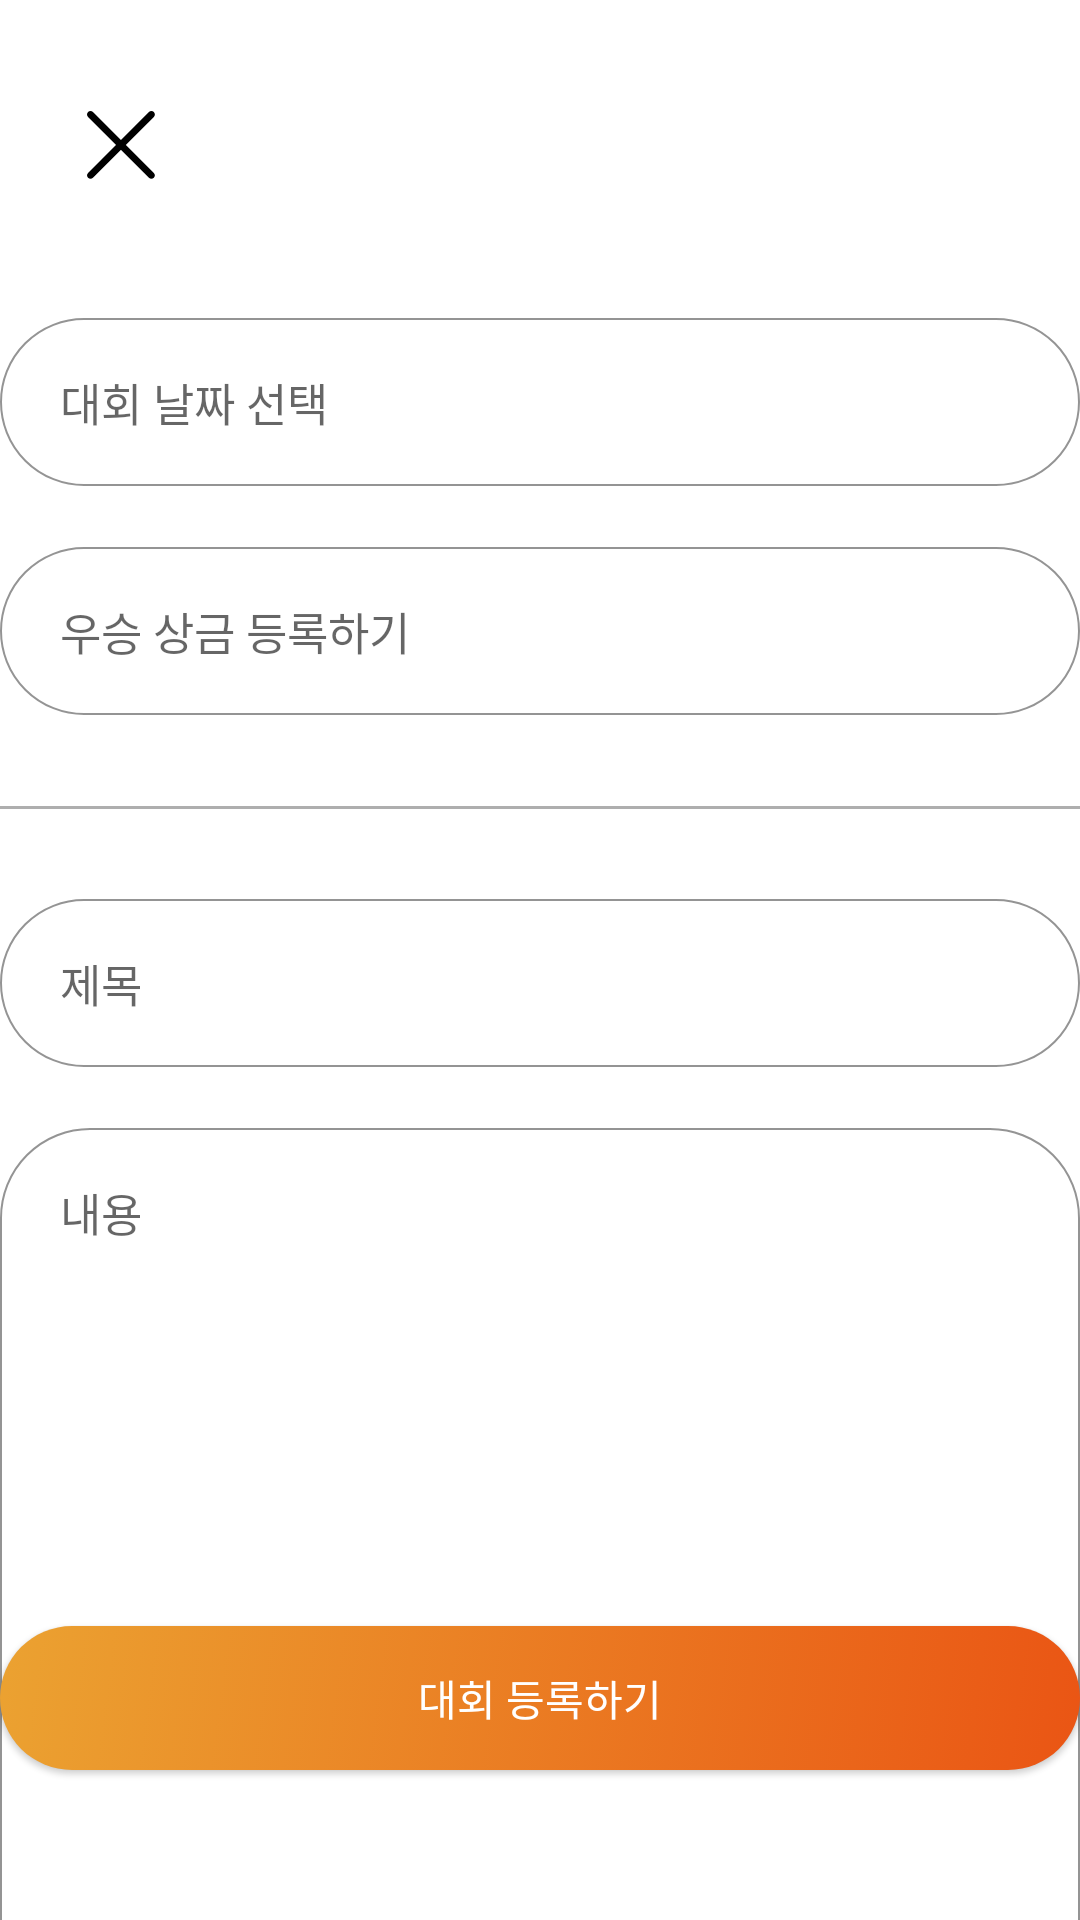

Icon click points for this 1080×1920 phone screenshot, format (x,y):
close: (121,145)
